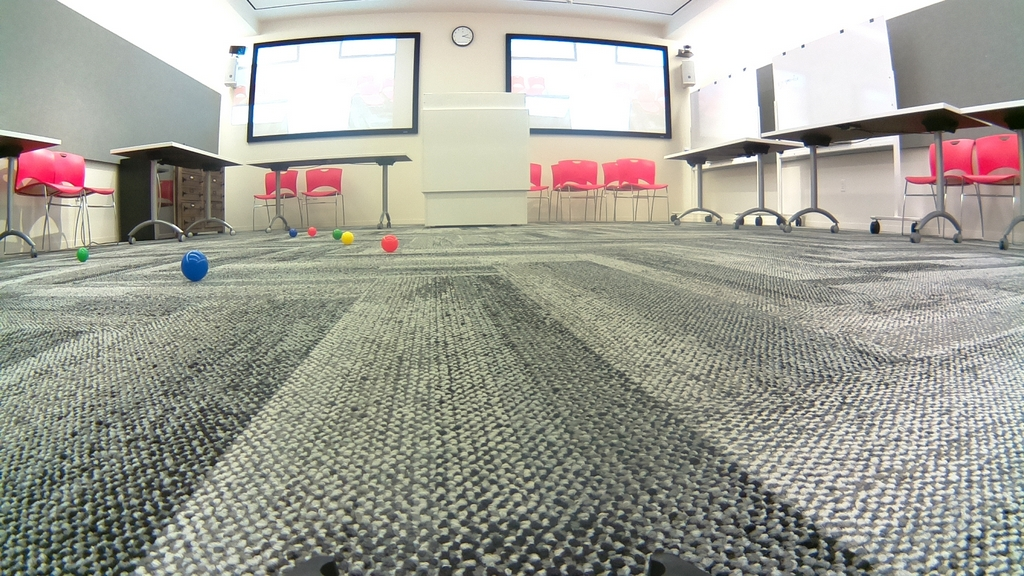ball: (182, 252, 208, 282)
